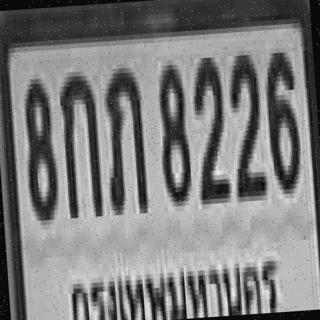A01: (56, 68, 101, 212)
A32: (99, 62, 148, 211)
N02: (188, 52, 228, 200), (225, 47, 265, 195)
N06: (262, 45, 300, 188)
N08: (20, 71, 57, 214), (155, 59, 191, 202)
P04: (65, 242, 278, 320)
